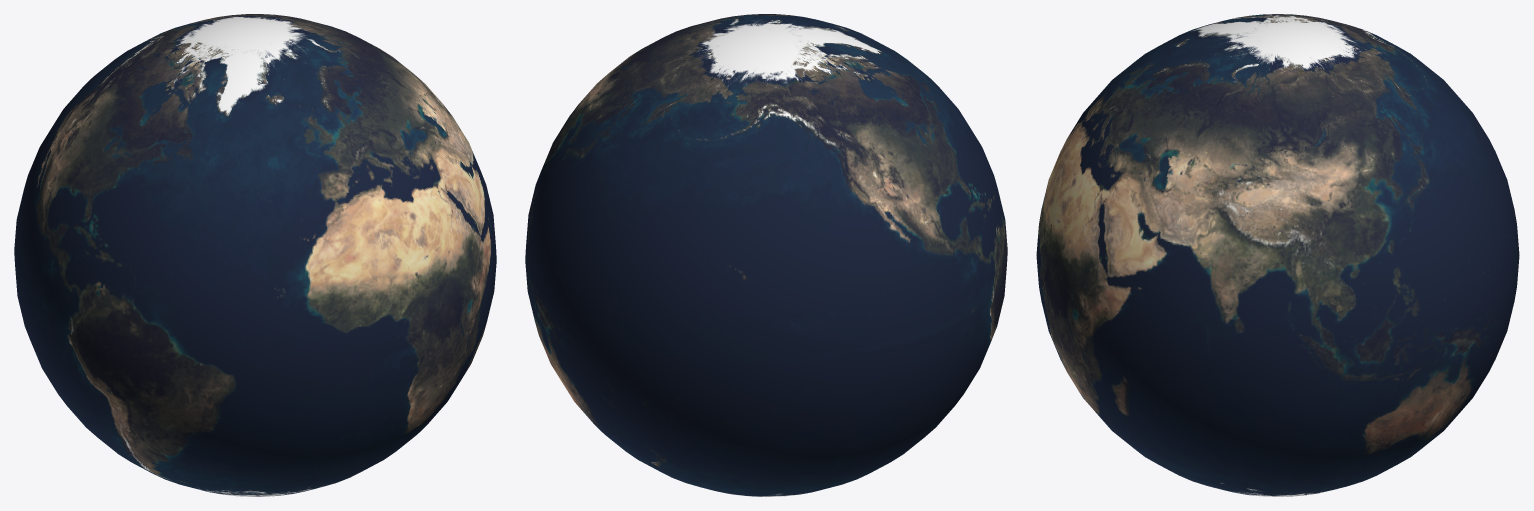
File: earth.DAE
3 renders of one model, left to right at view 1: azimuth 30°, elevation 25°; view 2: azimuth 150°, elevation 25°; view 3: azimuth 270°, elevation 25°, orthographic.
Parts seen in each view (by area): view 1: earth; view 2: earth; view 3: earth.
Boxes of the visible parts, box(x1,y1,x2,y2) form: earth: box(14, 14, 496, 496); earth: box(525, 14, 1007, 496); earth: box(1036, 14, 1519, 496).
Size of the model in its own units: 0.3202 by 0.3202 by 0.3202.
Materials: 1 (1 with a texture image).
